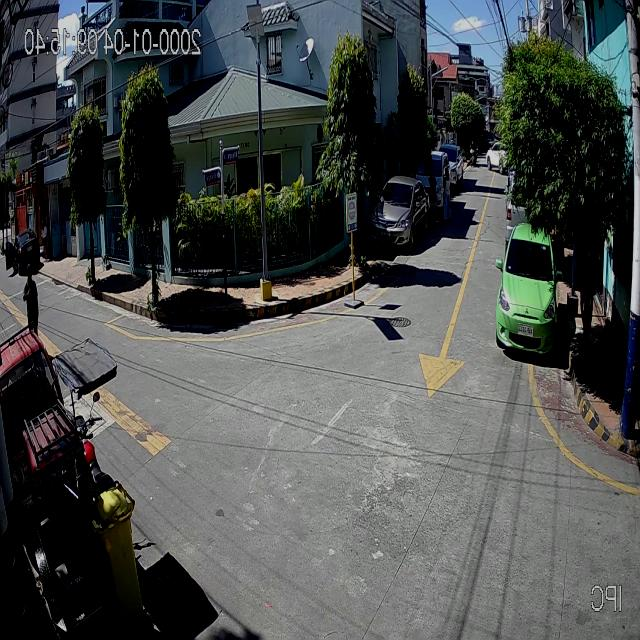walking: (23, 264, 39, 335), (41, 220, 48, 261)
